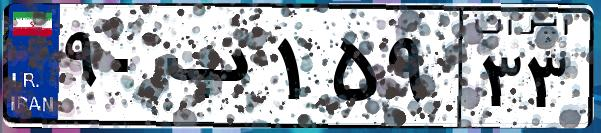0: (110, 28, 158, 98)
1: (270, 28, 330, 110)
3: (475, 38, 525, 113), (525, 38, 570, 115)
5: (330, 28, 385, 110)
9: (385, 28, 445, 110), (57, 26, 110, 100)
ب: (158, 20, 270, 120)
